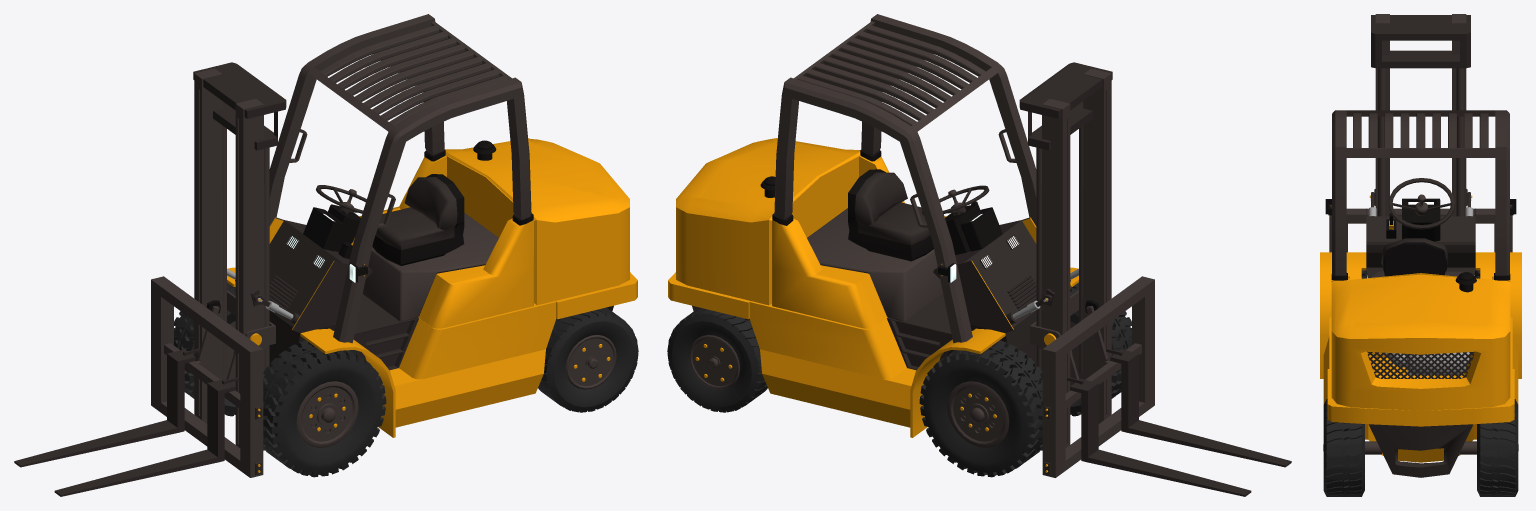
The picture shows the model from 3 angles, left to right: view 1: azimuth 30°, elevation 25°; view 2: azimuth 150°, elevation 25°; view 3: azimuth 270°, elevation 25°; orthographic projection. The views are drawn at different scales.
Visible parts, largest first — view 1: backside_withengine, Cube.034, wheelfront_L.009, roof, Cube.036, Cube.047, Cube.043, Cube.029, Cube.049, Cube.038, Cube.028, wheelback_L.002 (+17 smaller); view 2: backside_withengine, Cube.034, wheelfront_R.008, roof, Cube.035, Cube.047, Cube.049, Cube.029, Cube.043, Cube.038, Cube.028, body (+18 smaller); view 3: backside_withengine, Cube.031, Cube.055, Cube.032, wheelcoverFront_R, wheelback_R.005, wheelback_L.002, Cube.038, roof, Cube.036, Cube.035, Cube.068 (+17 smaller).
Boxes of the visible parts, box(x1,y1,x2,y2) form: backside_withengine: box(445, 138, 629, 305); Cube.034: box(359, 156, 533, 328); wheelfront_L.009: box(263, 340, 386, 477); roof: box(320, 25, 507, 125); Cube.036: box(333, 77, 531, 343); Cube.047: box(151, 276, 263, 477); Cube.043: box(194, 68, 223, 423); Cube.029: box(399, 301, 556, 379); Cube.049: box(235, 99, 264, 450); Cube.038: box(233, 217, 372, 366); Cube.028: box(390, 349, 545, 427); wheelback_L.002: box(538, 307, 638, 412); backside_withengine: box(676, 138, 860, 305); Cube.034: box(772, 156, 946, 328); wheelfront_R.008: box(919, 340, 1042, 477); roof: box(798, 25, 985, 125); Cube.035: box(774, 77, 972, 343); Cube.047: box(1042, 276, 1154, 477); Cube.049: box(1082, 68, 1111, 423); Cube.029: box(749, 301, 906, 379); Cube.043: box(1041, 99, 1070, 450); Cube.038: box(933, 217, 1072, 366); Cube.028: box(760, 349, 915, 427); body: box(807, 208, 943, 321); backside_withengine: box(1331, 274, 1510, 410); Cube.031: box(1327, 369, 1514, 462); Cube.055: box(1371, 15, 1470, 68); Cube.032: box(1368, 424, 1473, 477); wheelcoverFront_R: box(1320, 252, 1521, 378); wheelback_R.005: box(1477, 399, 1518, 496); wheelback_L.002: box(1323, 399, 1364, 496); Cube.038: box(1366, 208, 1475, 277); roof: box(1353, 113, 1488, 147); Cube.036: box(1332, 110, 1346, 275); Cube.035: box(1495, 110, 1509, 275); Cube.068: box(1367, 351, 1474, 378).
Size of the model in its own units: 1.36 by 0.8358 by 0.4585.
